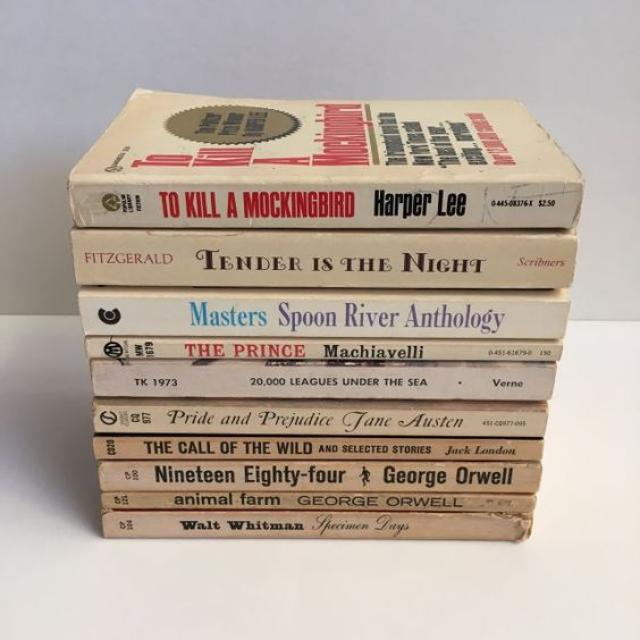book: (74, 234, 574, 288), (71, 179, 581, 228), (78, 294, 569, 339), (89, 361, 555, 400), (94, 406, 547, 438), (100, 463, 541, 494), (103, 511, 532, 541), (84, 339, 562, 362), (94, 438, 545, 461), (102, 492, 535, 514)
